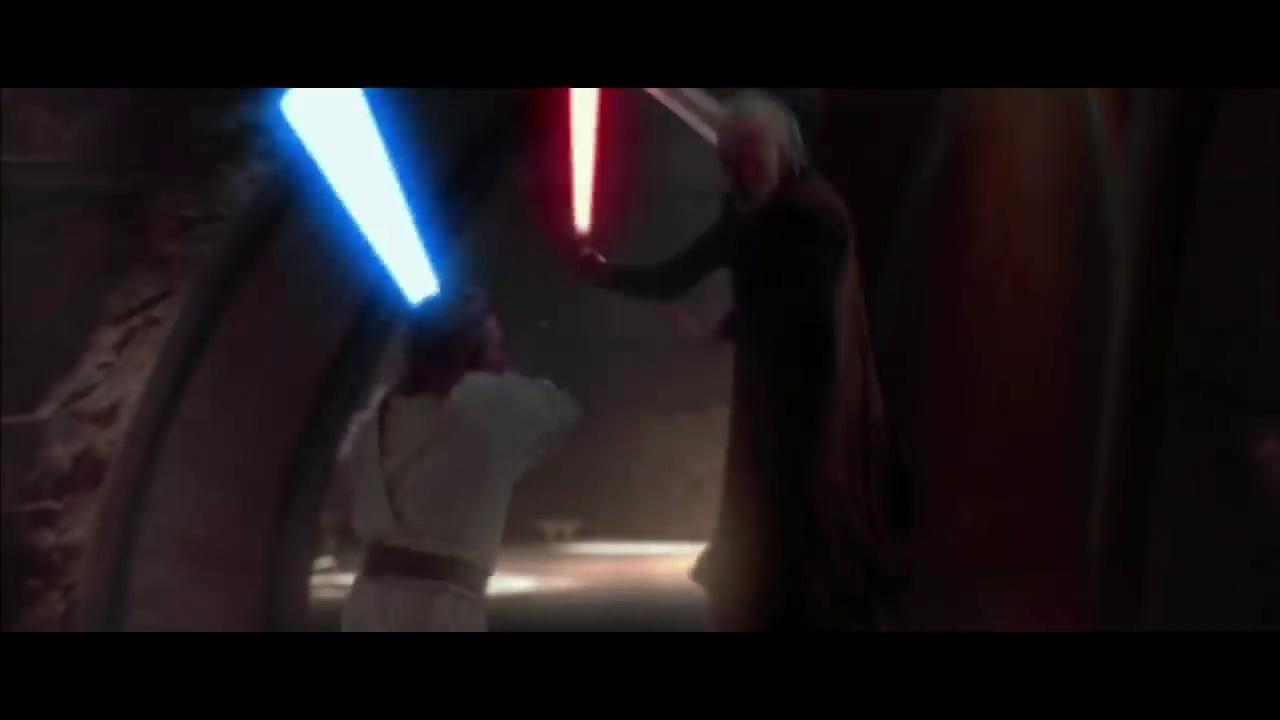lightsaber: (261, 82, 461, 293), (559, 86, 606, 270)
